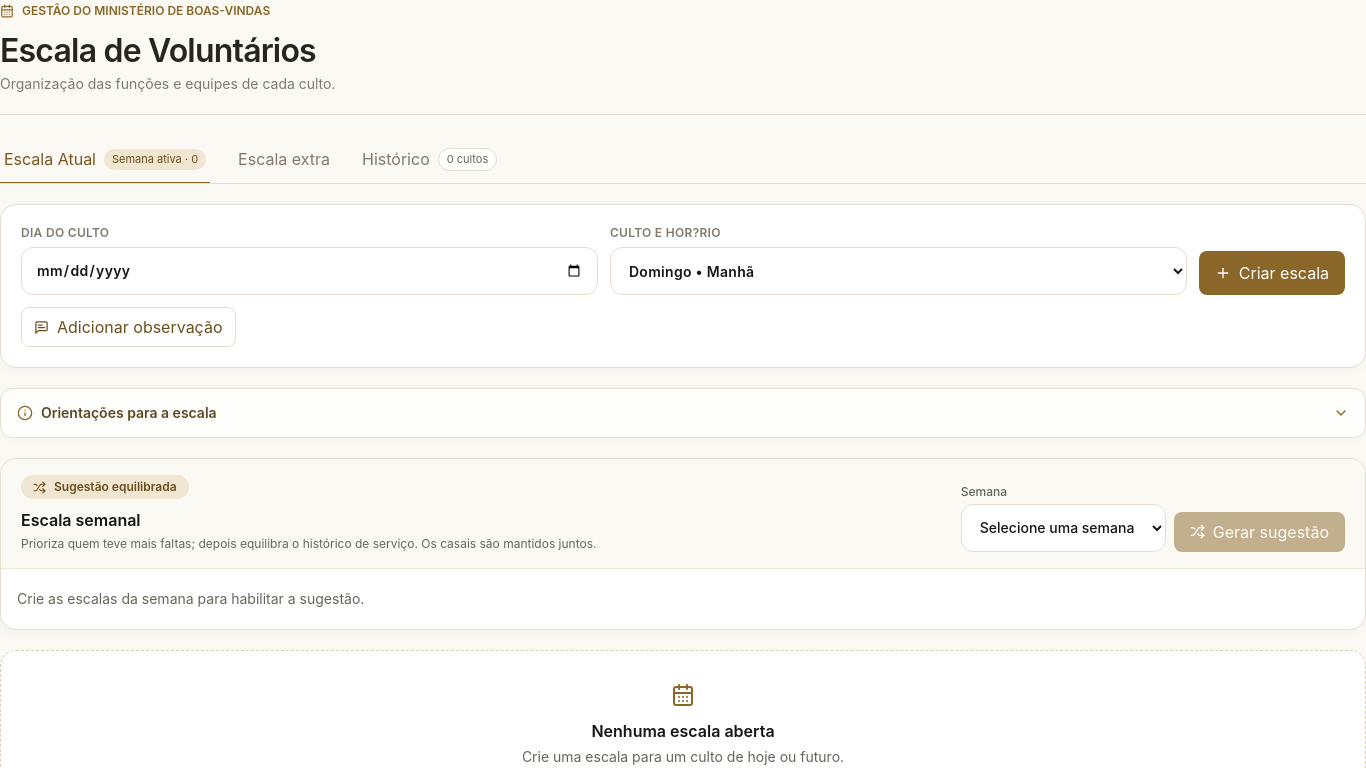
Test: create a schedule with volunteers › opens a draft modal and cancels without creating a schedule
Expected: the heading "Nenhuma escala aberta" is shown, [591, 721, 774, 741]
Type "2099-12-12" into the date field labelled "Dia do culto" at (309, 271), box [21, 247, 598, 295]
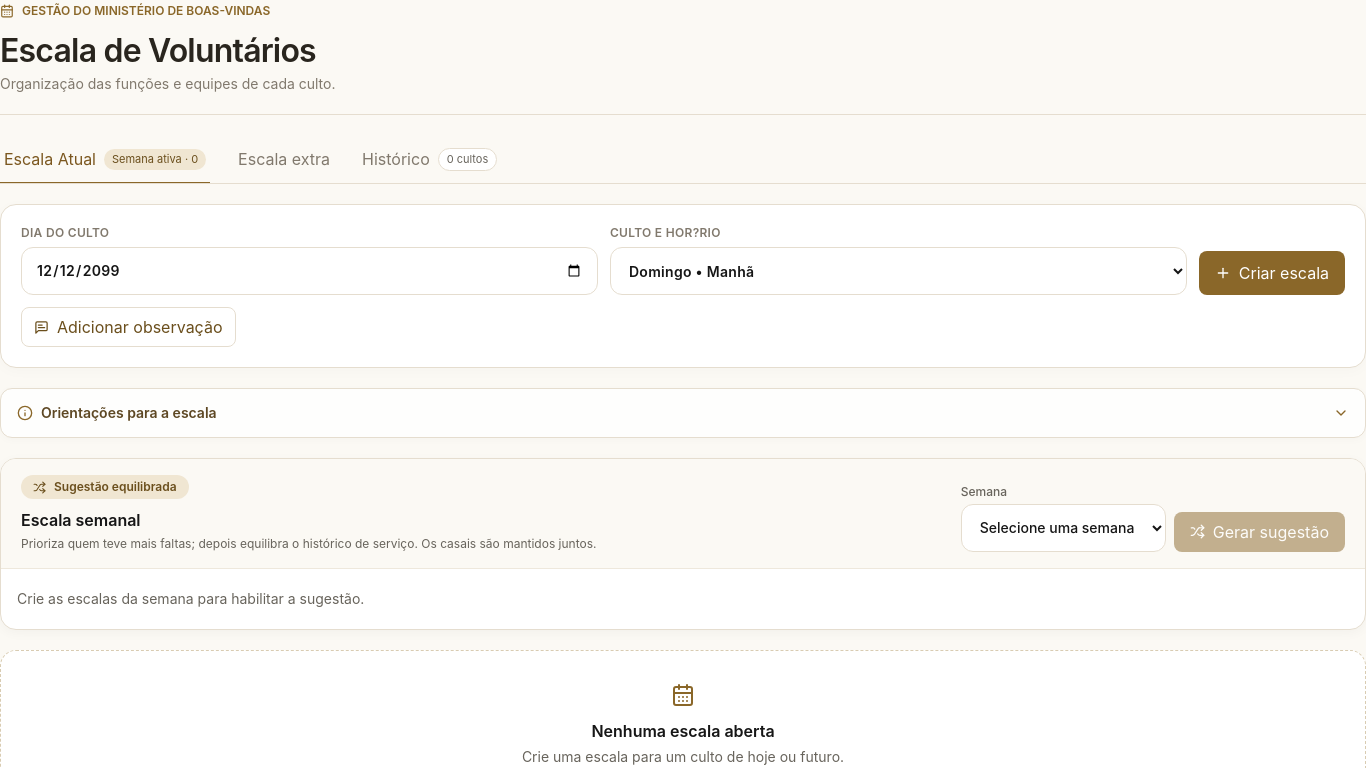
Click the button "Criar escala" at (1272, 273), box [1199, 251, 1345, 295]
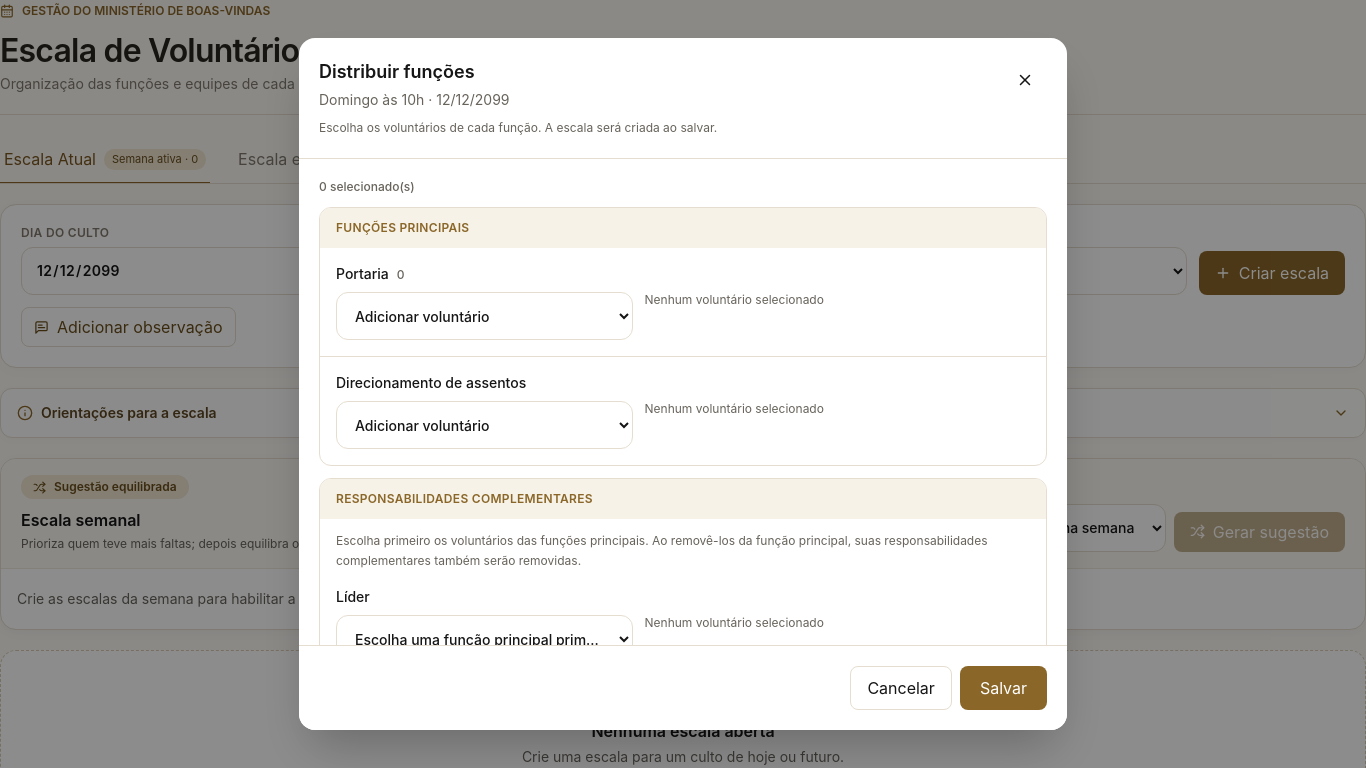
Select "Bruna" in the dropdown named "Selecionar voluntário para Portaria" at (484, 316), box [336, 292, 632, 340]
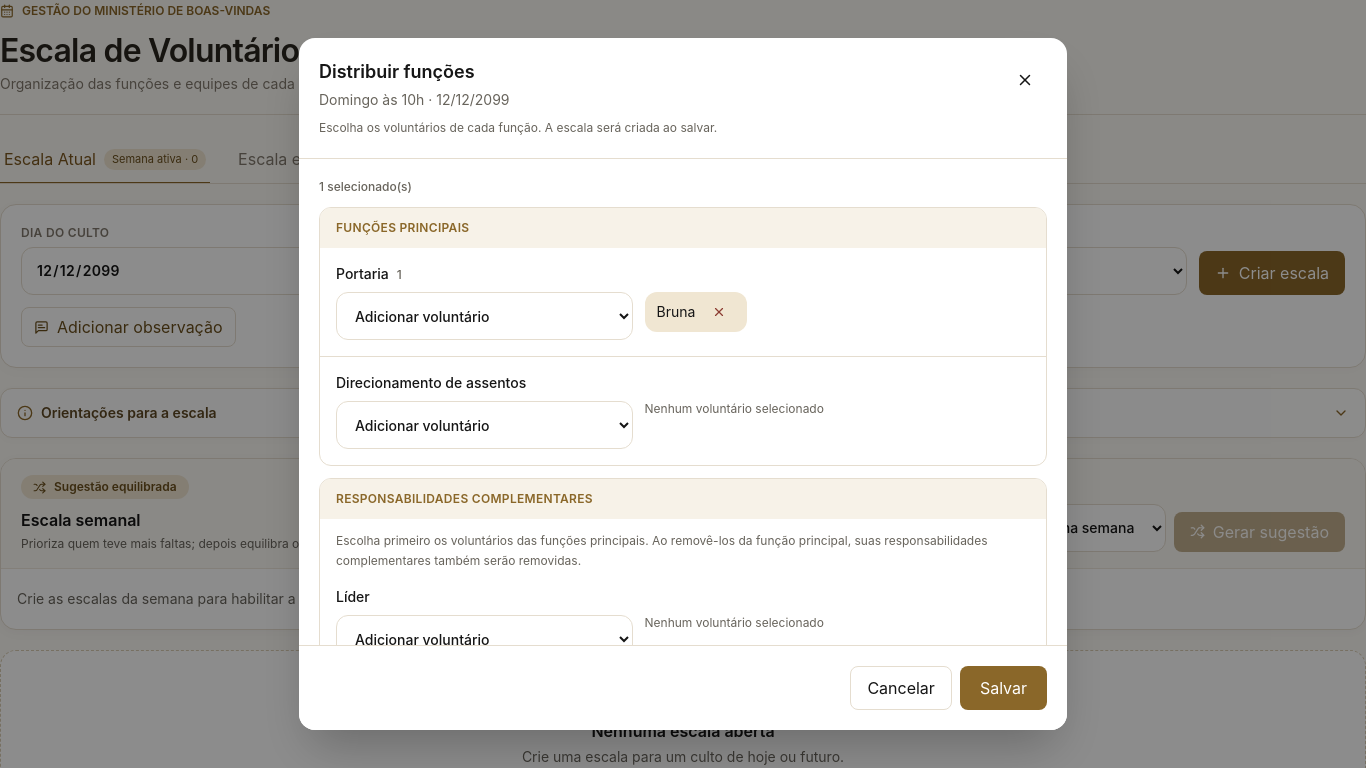
Click the button "Cancelar" at (901, 688), box [850, 666, 952, 710]
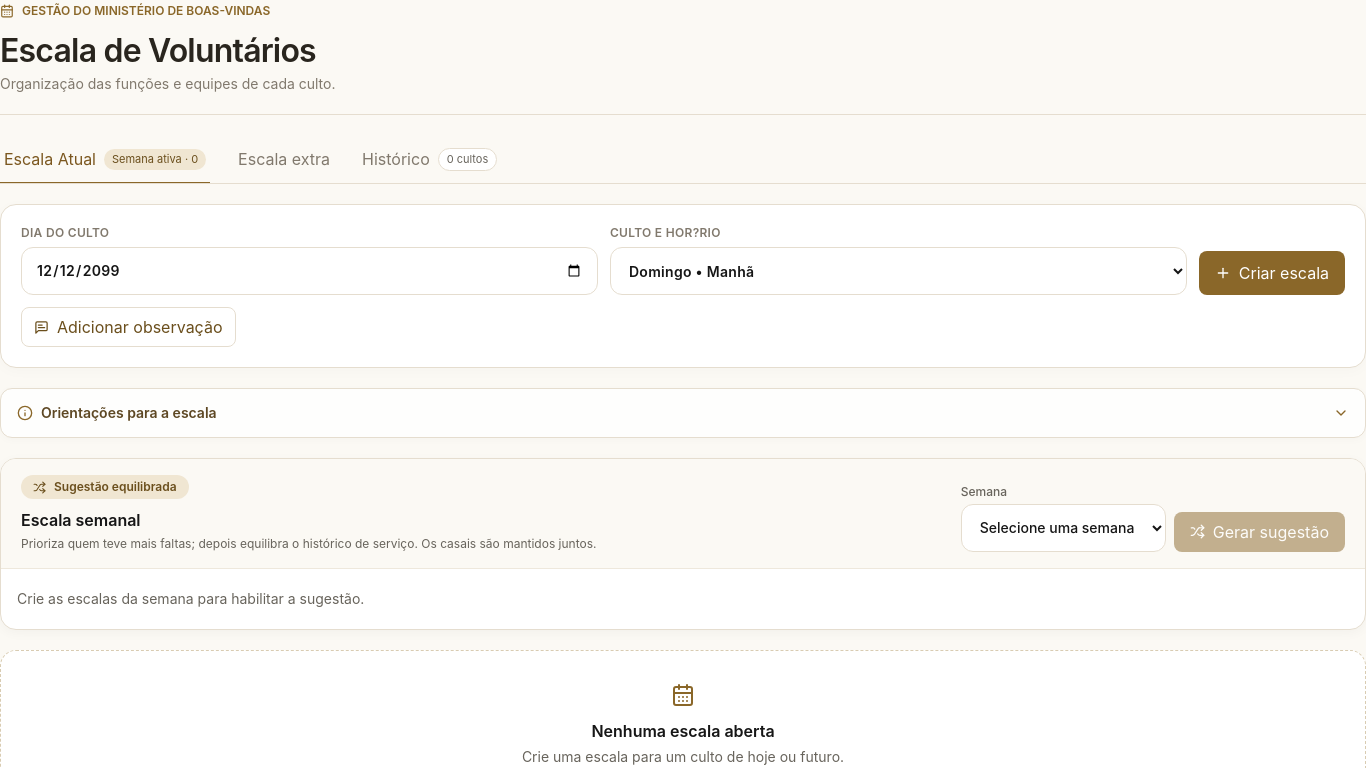
Now the dialog is gone
